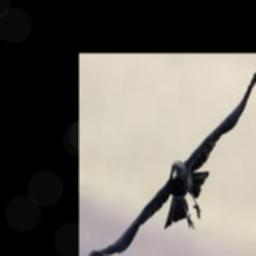Crow: (88, 67, 256, 256)
